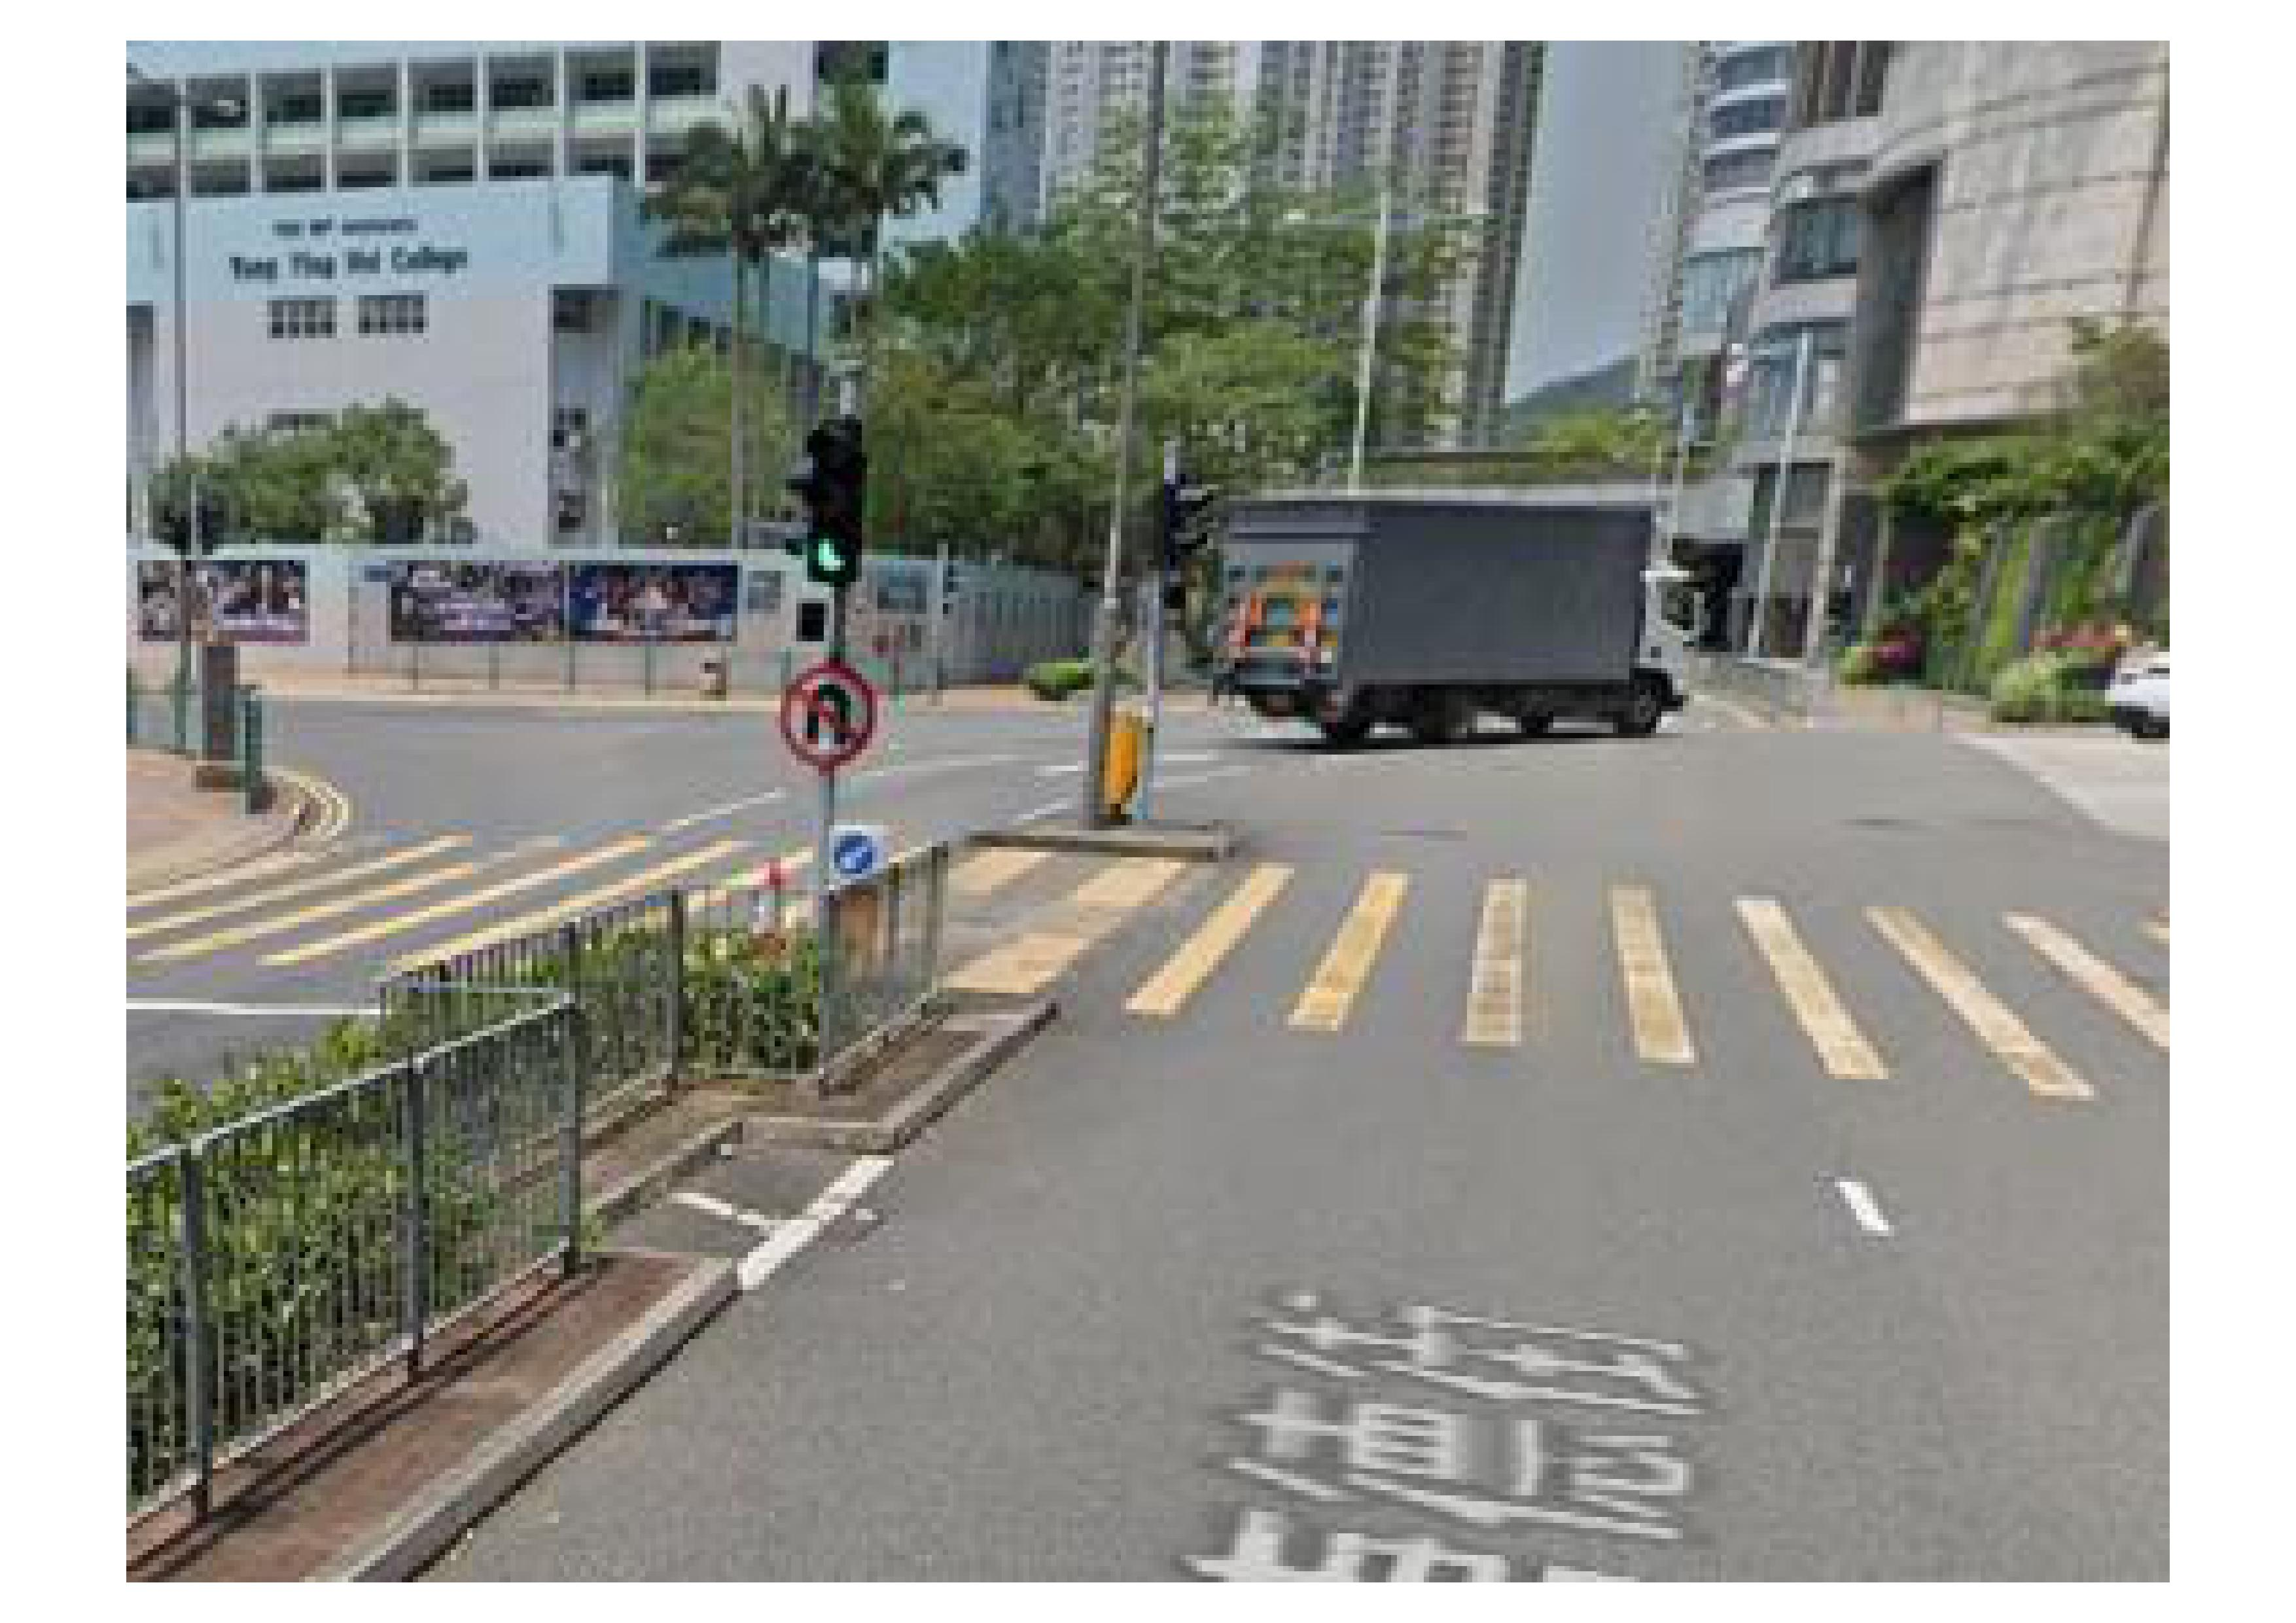No Uturn: (776, 666, 879, 768)
